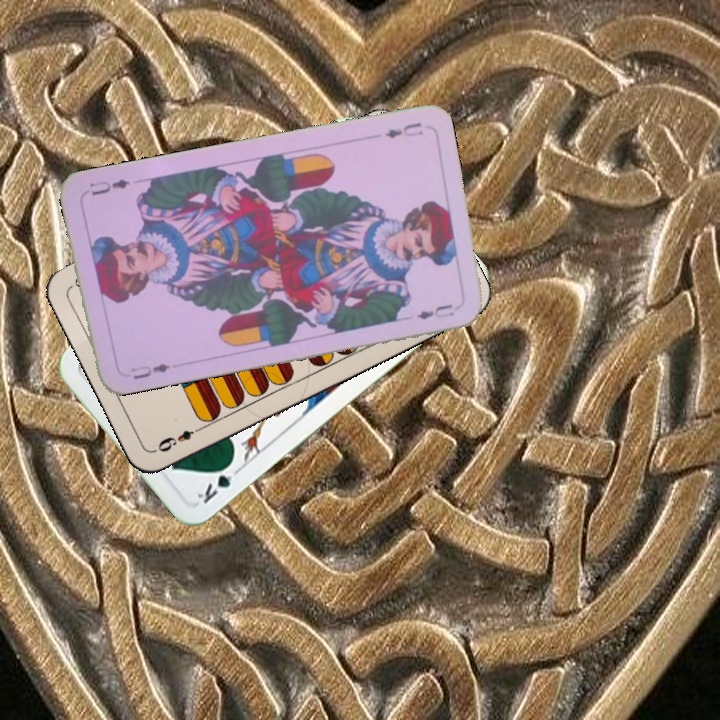E9: (151, 422, 207, 455)
EU: (127, 359, 174, 382), (381, 118, 426, 141)
GK: (193, 457, 244, 507)
